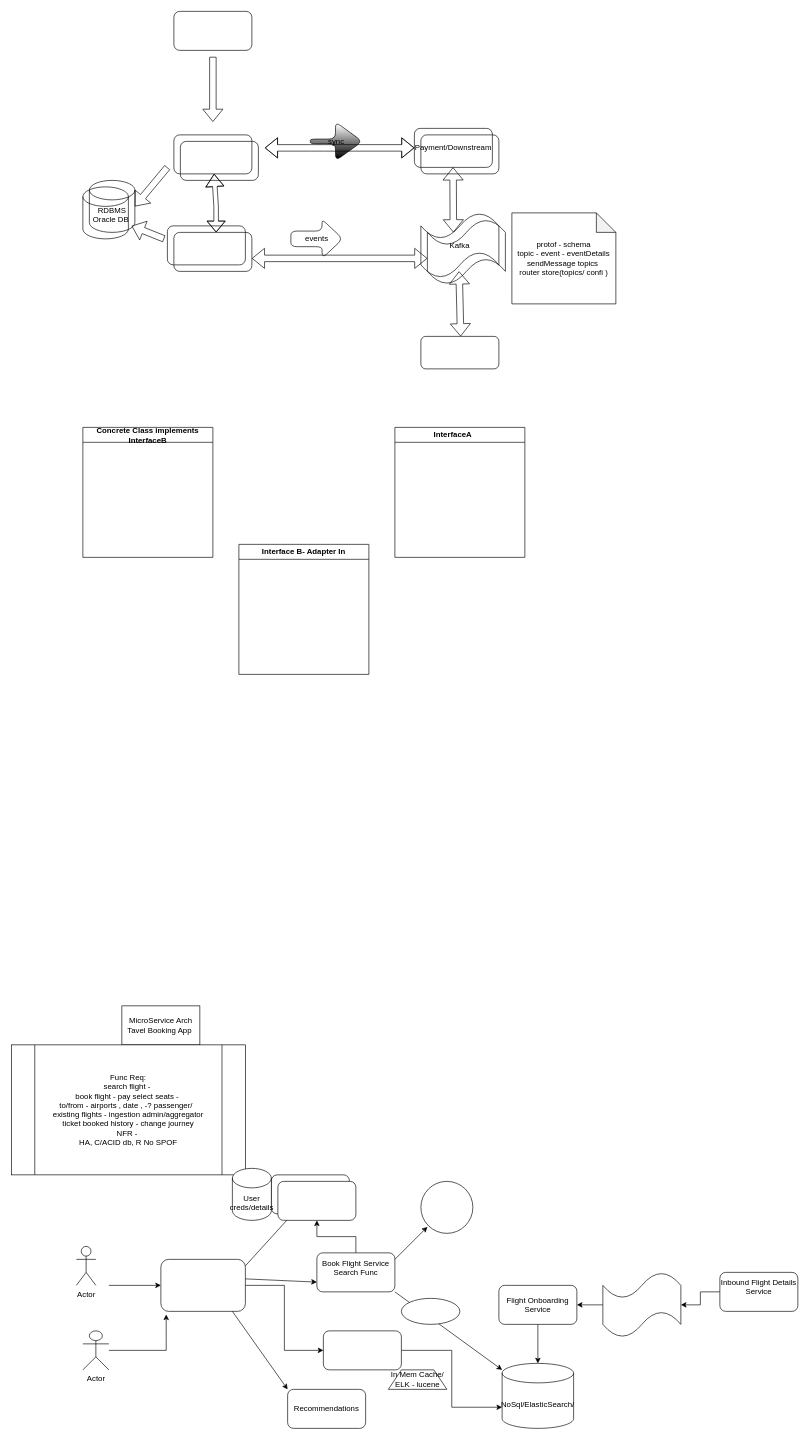
Image size: 809x1440. Some labels were removed from this diagram. The centre of each missing label's shape, as x and y in pixels:
"API Gateway /Load Balancer" belongs at [202,1285].
"Flight Queue/Kafka Topics - Clusters" belongs at [641,1304].
"OIS" belongs at [212,30].
"Order Event consumer/publisher" belongs at [206,245].
"Order Service json delta comparator" belongs at [219,160].
"Payment Service" belongs at [446,1207].
"router - config" belongs at [459,352].
"Search Service" belongs at [362,1350].
"User Service/Auth Service" belongs at [316,1200].
"validation call" belongs at [430,1311].
